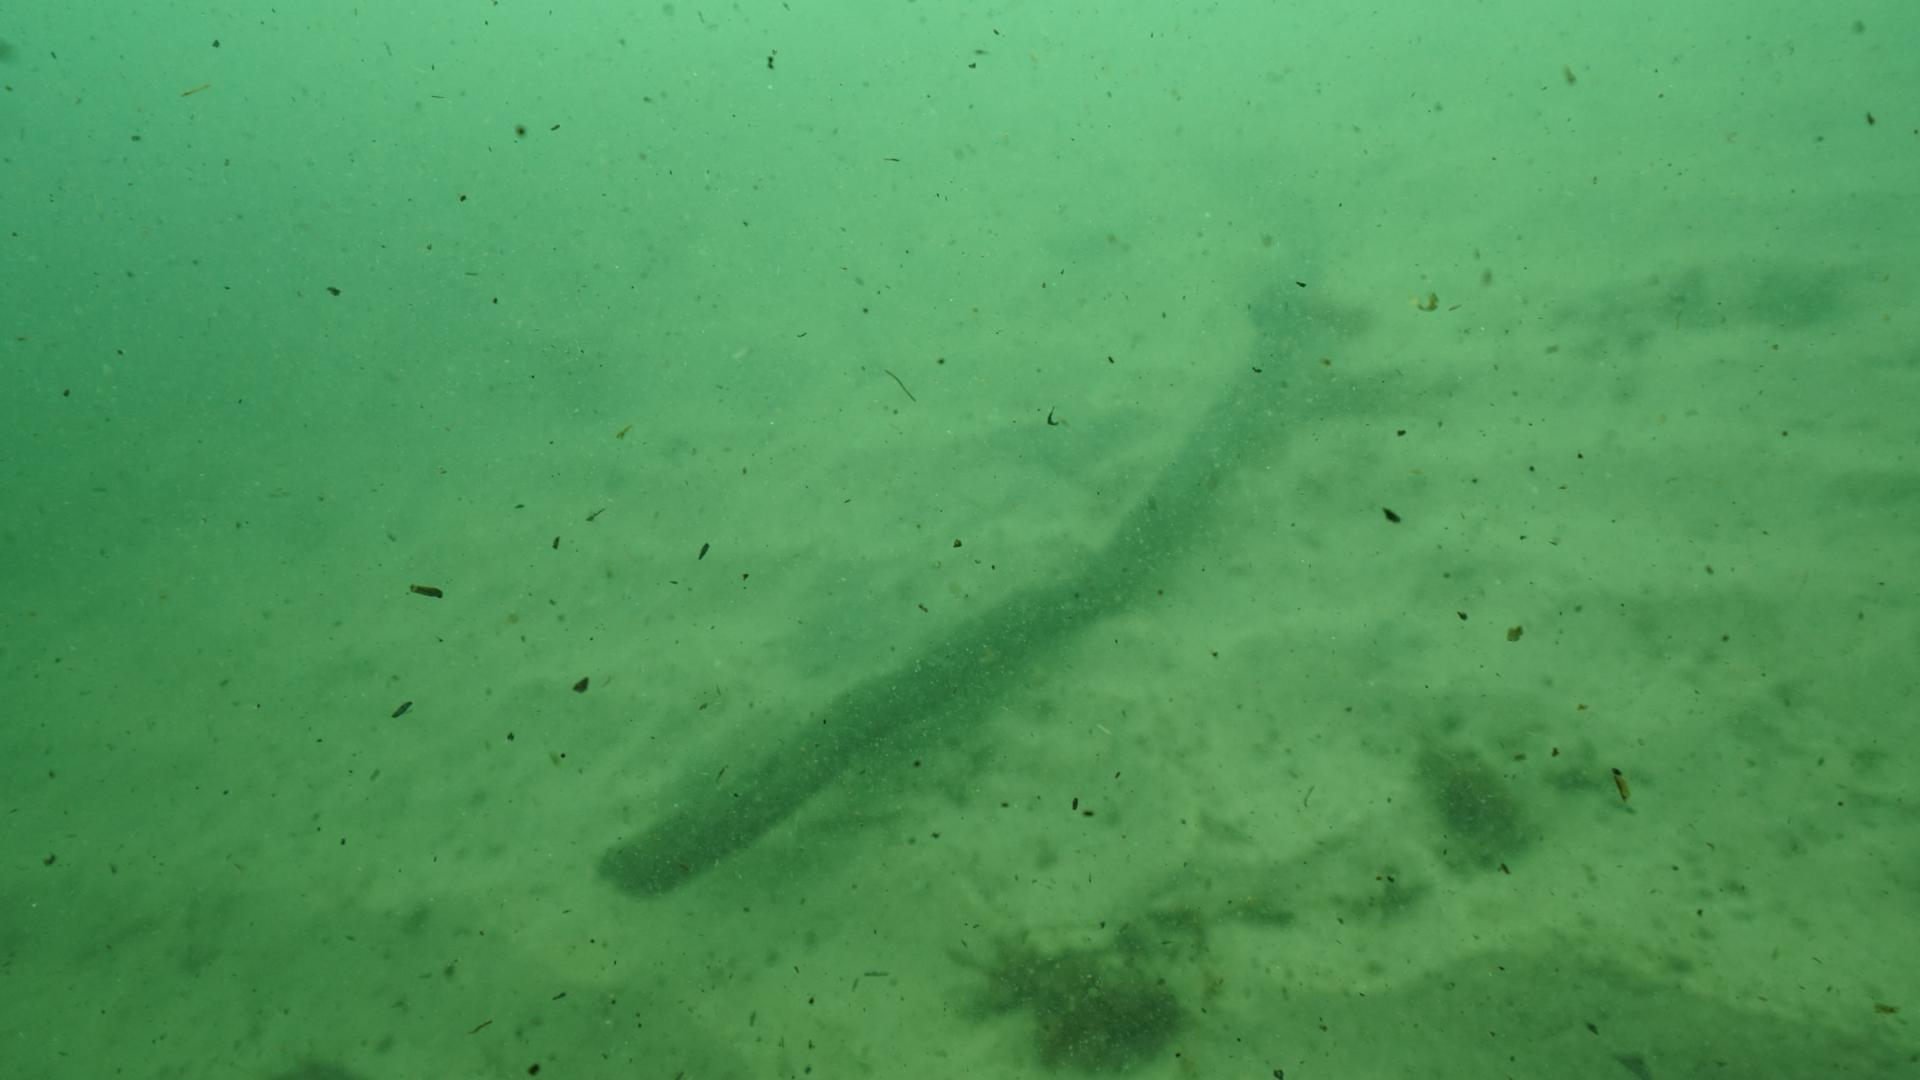wood: (597, 284, 1336, 899)
